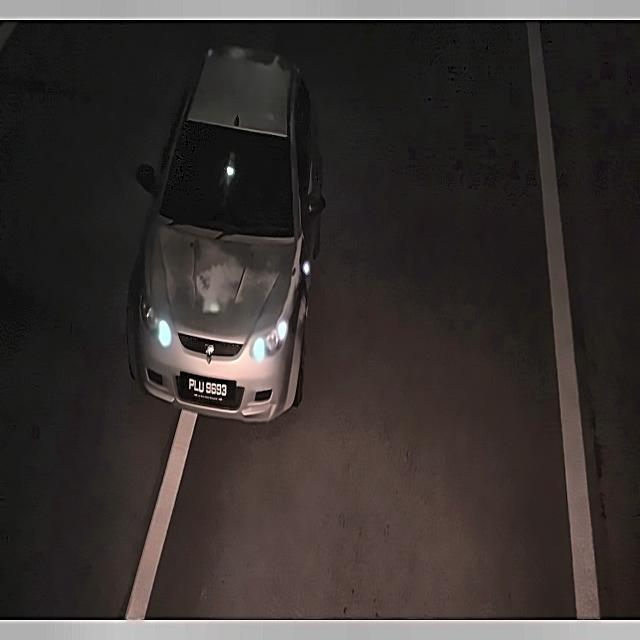car: (183, 370, 232, 408)
